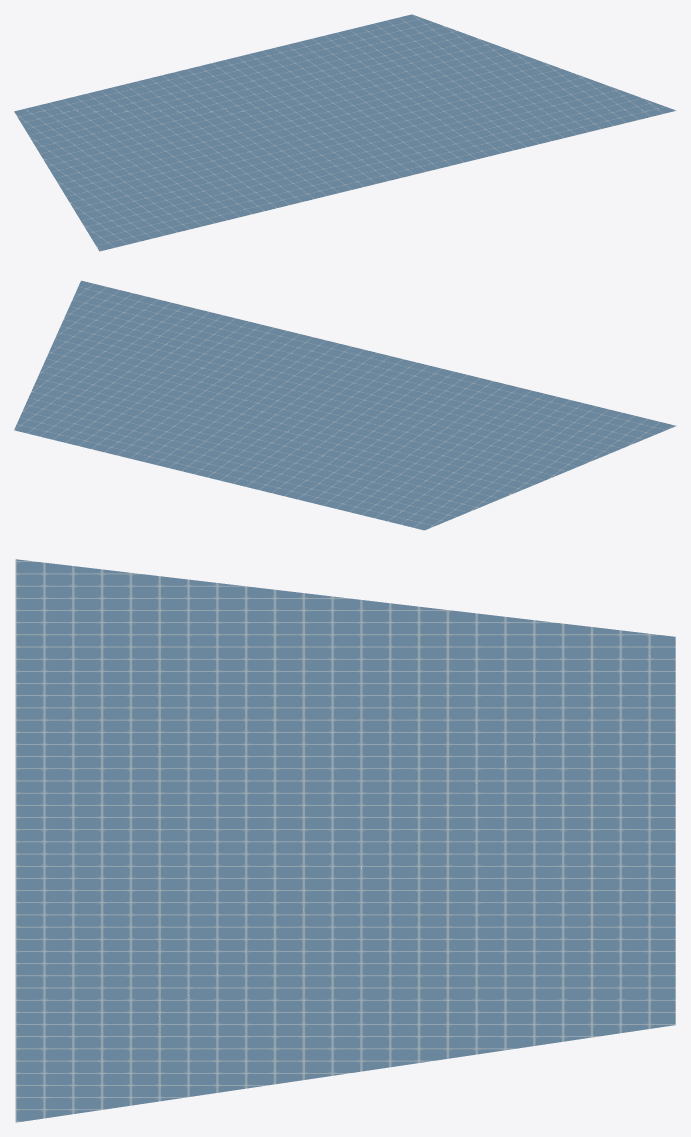
Rendered from collision-world.glb.
3 views of the same model, one above another, from view 1: azimuth 30°, elevation 25°; view 2: azimuth 150°, elevation 25°; view 3: azimuth 270°, elevation 25° (orthographic). The views are drawn at different scales.
Parts seen in each view (by area): view 1: Cube.004; view 2: Cube.004; view 3: Cube.004.
Boxes of the visible parts, <box> form: Cube.004: <box>14,14,676,251</box>; Cube.004: <box>14,280,676,530</box>; Cube.004: <box>15,559,675,1122</box>.
Bounding box in the file's own units: 112 × 0 × 55.68.
Materials: 1 (1 with a texture image).
